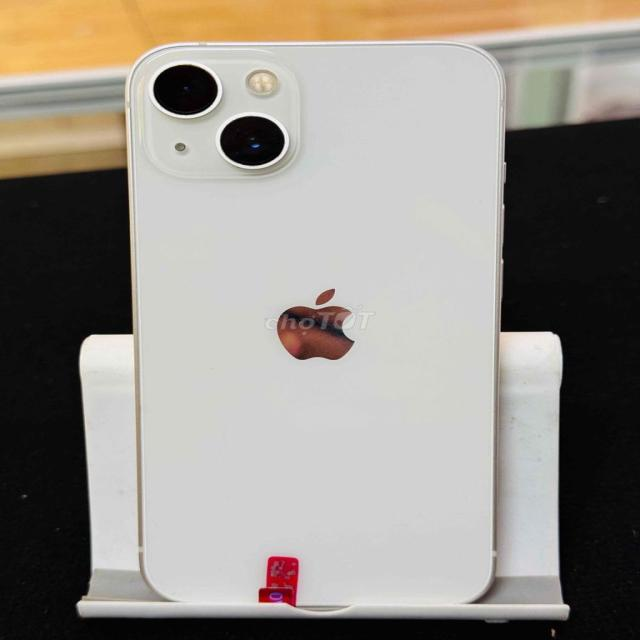gen_12_13: (128, 43, 503, 612)
